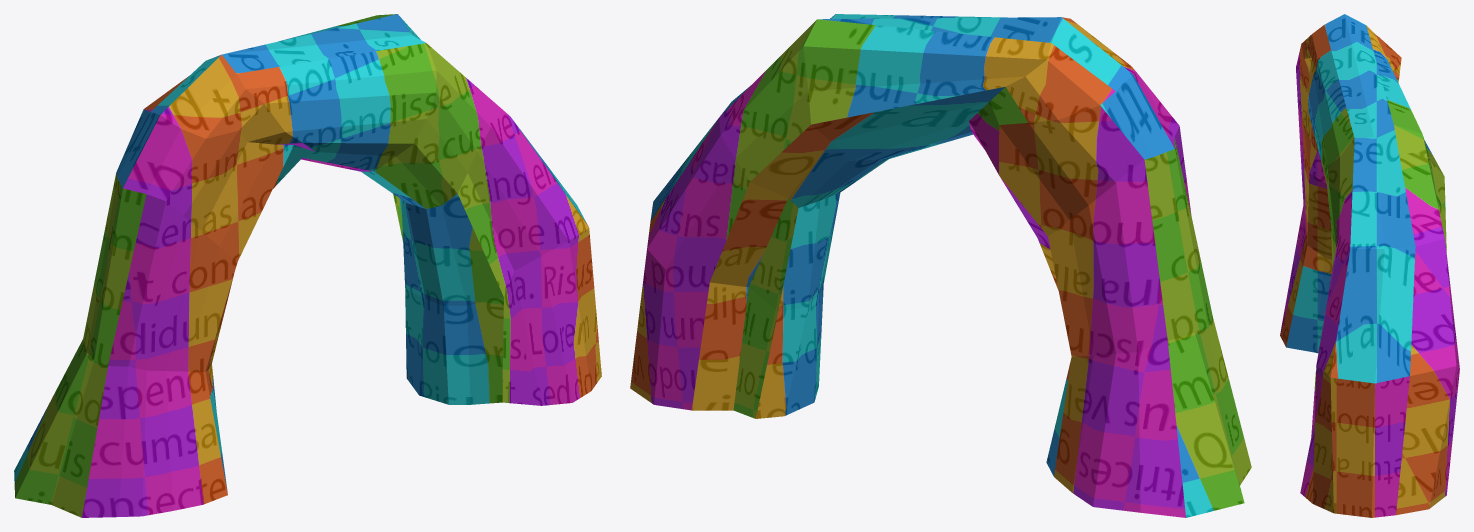
File: SM_Mountain_4.fbx
The picture shows the model from 3 angles, left to right: view 1: azimuth 30°, elevation 25°; view 2: azimuth 150°, elevation 25°; view 3: azimuth 270°, elevation 25°; orthographic projection. The views are drawn at different scales.
Parts seen in each view (by area): view 1: SM_Mountain_4; view 2: SM_Mountain_4; view 3: SM_Mountain_4.
Part boxes in pixels (left/top/right/bottom): SM_Mountain_4: left=14, top=14, right=601, bottom=517; SM_Mountain_4: left=630, top=14, right=1251, bottom=517; SM_Mountain_4: left=1280, top=14, right=1459, bottom=517.
Bounding box in the file's own units: 127 × 86.16 × 40.71.
Materials: 1 (1 with a texture image).
